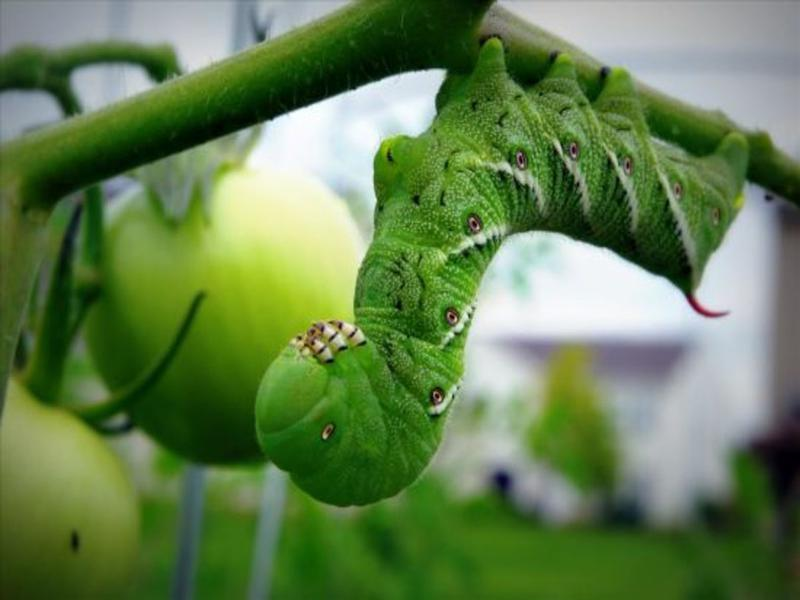Rice_horned_caterpillar: (237, 34, 757, 514)
